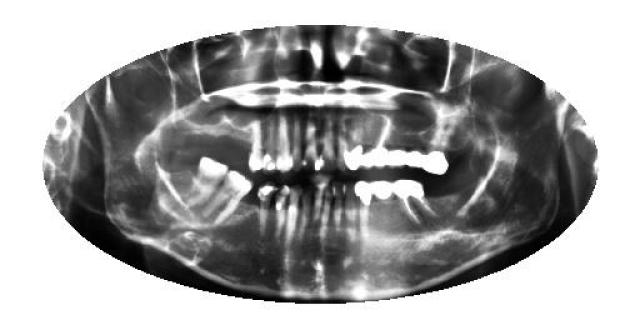Fillings: (422, 124, 452, 176), (355, 179, 373, 239), (344, 124, 364, 171), (408, 142, 423, 172), (392, 140, 408, 168), (374, 179, 394, 201), (363, 141, 375, 171)
Implant: (392, 178, 440, 226), (372, 116, 392, 170)
